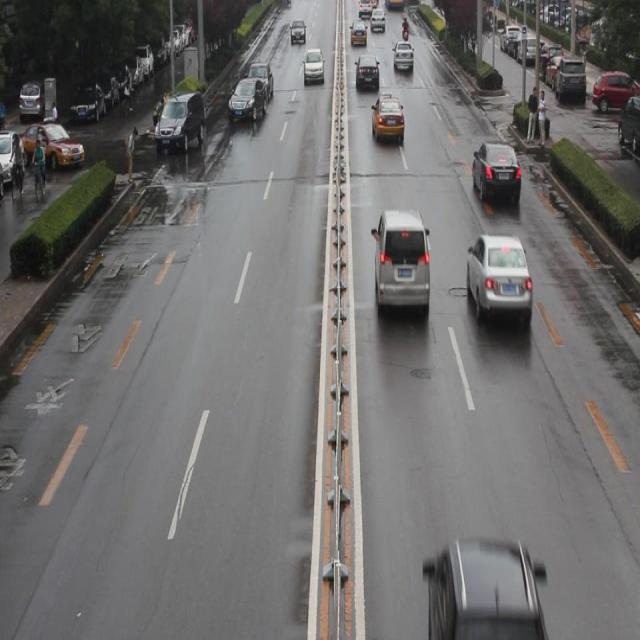car: (424, 534, 544, 630), (467, 235, 530, 332), (470, 138, 520, 202), (225, 77, 267, 122), (372, 94, 405, 146)
truck: (371, 210, 429, 315), (154, 92, 205, 153)
